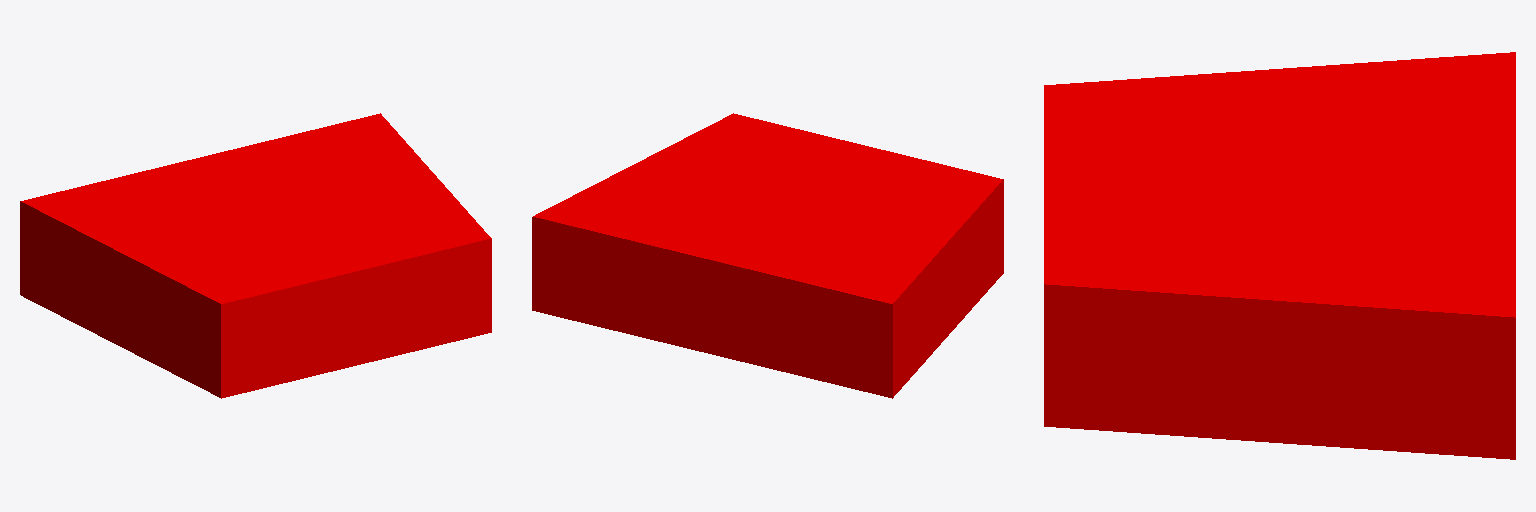
URDF robot description (trapezium_block):
<?xml version="1.0"?>
<robot name="trapezium_block">
  <link name="block">
    <visual>
      <geometry>
        <mesh filename="./config/assets/trapezium.dae"/>
      </geometry>
    </visual>

    <collision>
      <geometry>
        <mesh filename="./config/assets/trapezium.dae"/>
      </geometry>
    </collision>
  </link>

</robot>

--- Facts derived from the render (not from the file) ---
The picture shows the robot from 3 angles, left to right: view 1: azimuth 30°, elevation 25°; view 2: azimuth 150°, elevation 25°; view 3: azimuth 270°, elevation 25°; orthographic projection.
Robot: trapezium_block — 1 links, 0 joints (none); root link block; default pose: all joints at 0.
Visible links, largest first — view 1: block; view 2: block; view 3: block.
Boxes of the visible links, left/top/right/bottom form: block: left=20, top=113, right=491, bottom=398; block: left=532, top=113, right=1003, bottom=398; block: left=1044, top=52, right=1515, bottom=459.
Bounding box of the posed robot: 0.08 × 0.06 × 0.02 m (x, y, z).
1 mesh visuals loaded from 1 distinct referenced files (1 Collada DAE).